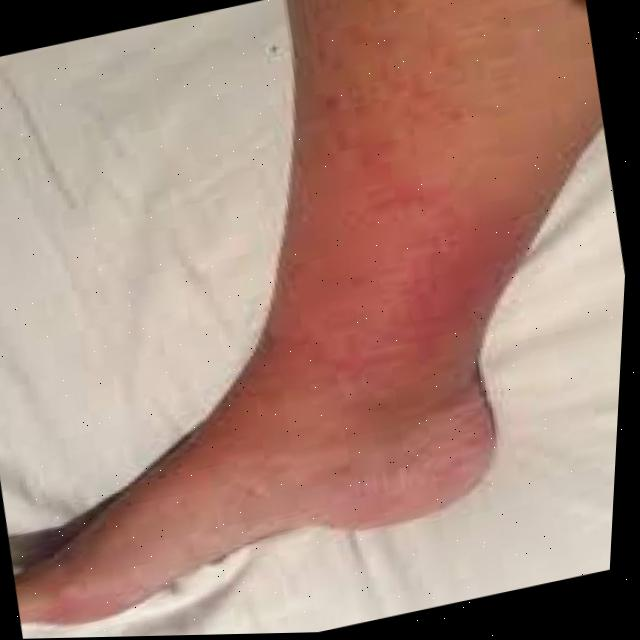Eczema: (142, 43, 592, 487)
